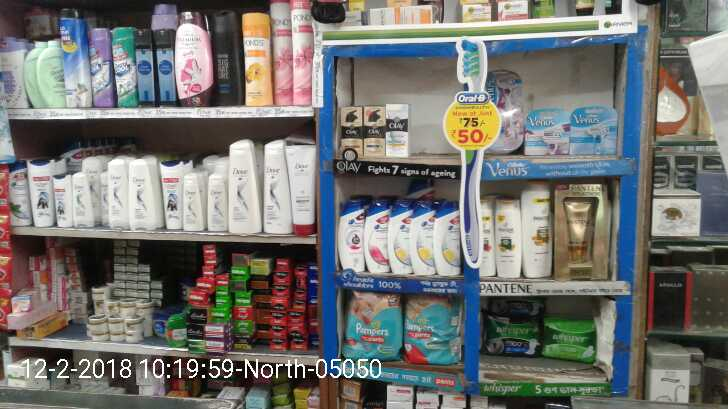venus: (571, 106, 618, 153), (525, 112, 571, 153), (495, 73, 518, 152)
